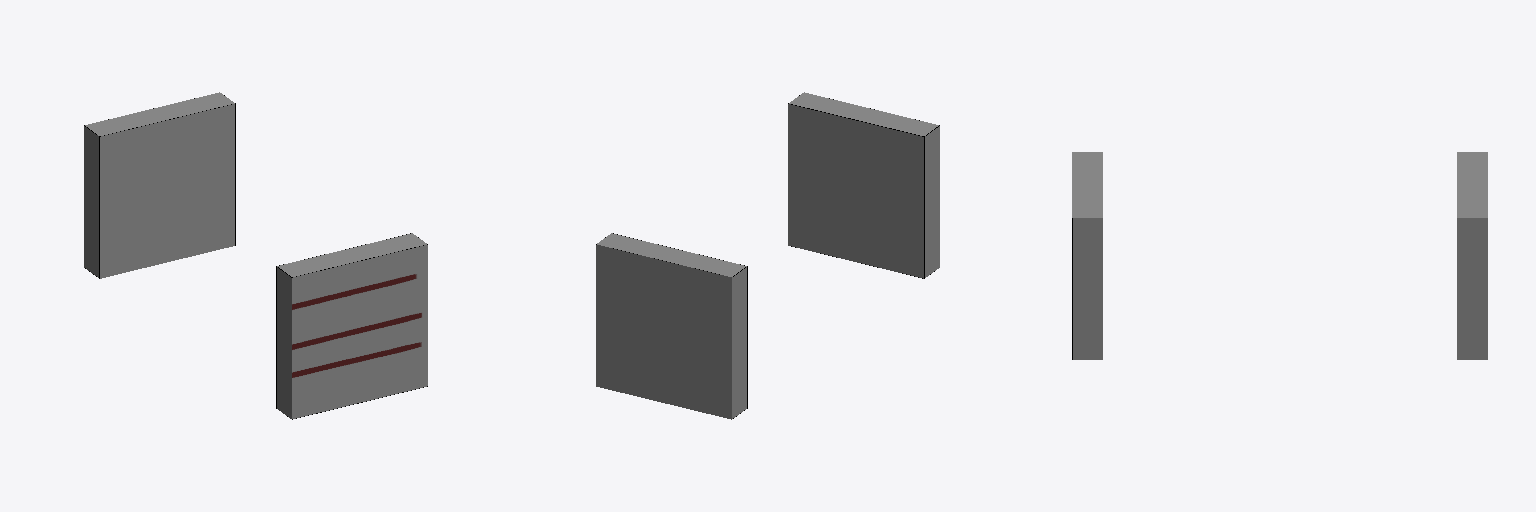
3 renders of one model, left to right at view 1: azimuth 30°, elevation 25°; view 2: azimuth 150°, elevation 25°; view 3: azimuth 270°, elevation 25°, orthographic.
Parts seen in each view (by area): view 1: left_door_Cube.017; view 2: left_door_Cube.017; view 3: left_door_Cube.017.
Boxes of the visible parts, x1=… form: left_door_Cube.017: x1=84, y1=92, x2=427, y2=419; left_door_Cube.017: x1=596, y1=92, x2=939, y2=419; left_door_Cube.017: x1=1072, y1=152, x2=1487, y2=359.
Bounding box in the file's own units: 2 × 2 × 5.29.
1 materials, 1 textured.